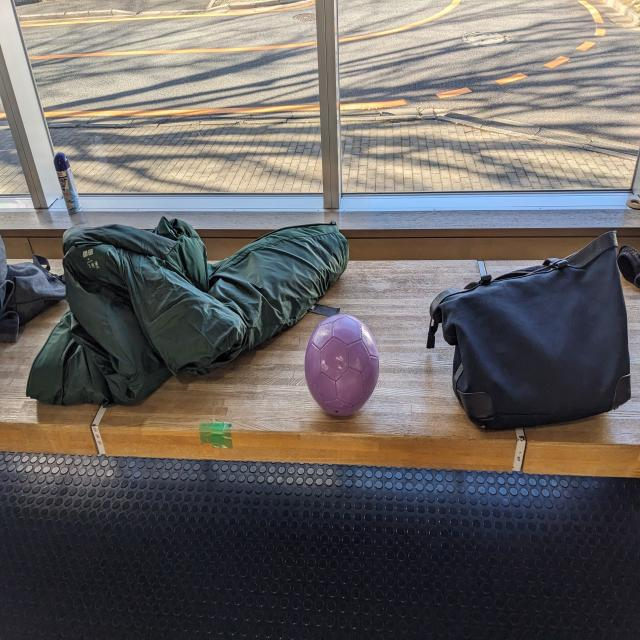purple_ball: (304, 313, 381, 421)
